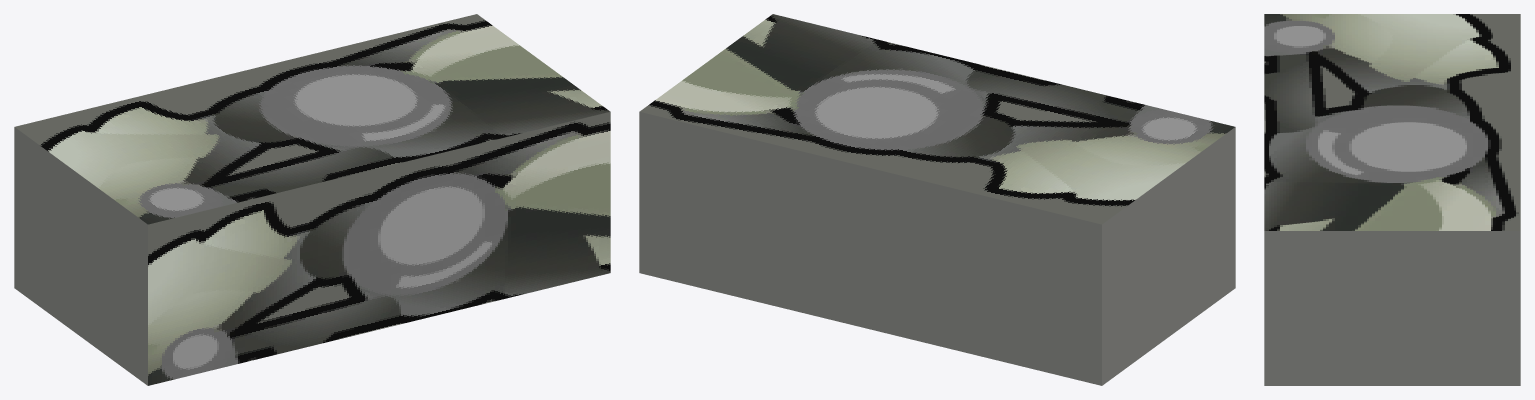
File: Building_AncientExostriderLeg.glb
The picture shows the model from 3 angles, left to right: view 1: azimuth 30°, elevation 25°; view 2: azimuth 150°, elevation 25°; view 3: azimuth 270°, elevation 25°; orthographic projection. The views are drawn at different scales.
Parts seen in each view (by area): view 1: AncientExostriderLeg; view 2: AncientExostriderLeg; view 3: AncientExostriderLeg.
Part boxes in pixels (<box>): AncientExostriderLeg: <box>14,14,610,385</box>; AncientExostriderLeg: <box>639,14,1235,385</box>; AncientExostriderLeg: <box>1264,14,1520,385</box>.
Bounding box in the file's own units: 1.8 × 0.6 × 0.9.
1 material, 1 textured.
